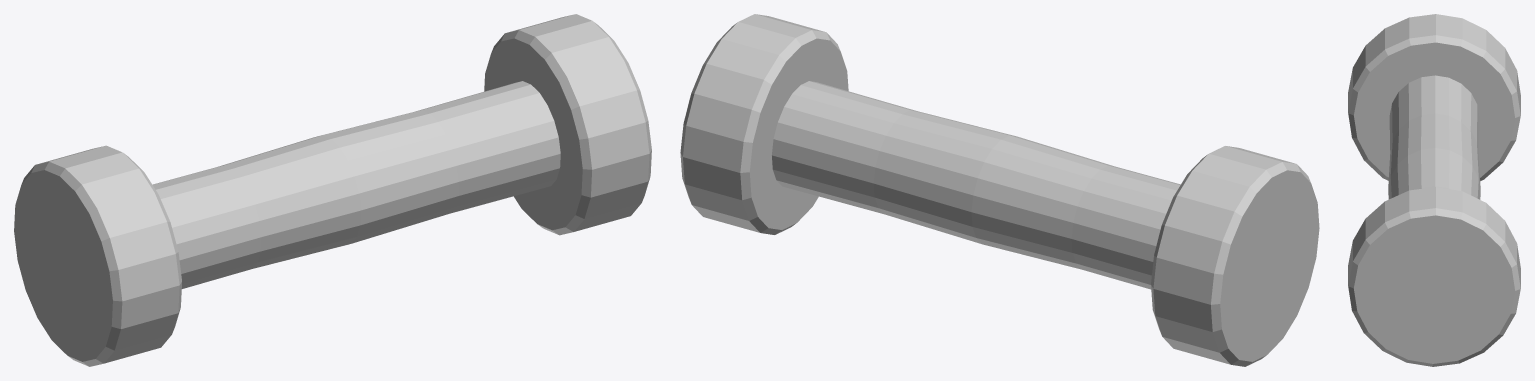
The model's file is ChromeDumbbells.004.fbx.
The picture shows the model from 3 angles, left to right: view 1: azimuth 30°, elevation 25°; view 2: azimuth 150°, elevation 25°; view 3: azimuth 270°, elevation 25°; orthographic projection. The views are drawn at different scales.
Visible parts, largest first — view 1: ChromeDumbblells.005; view 2: ChromeDumbblells.005; view 3: ChromeDumbblells.005.
Boxes of the visible parts, left/top/right/bottom form: ChromeDumbblells.005: left=14, top=14, right=651, bottom=366; ChromeDumbblells.005: left=680, top=14, right=1319, bottom=366; ChromeDumbblells.005: left=1348, top=14, right=1520, bottom=366.
Bounding box in the file's own units: 14.79 × 5.47 × 4.98.
